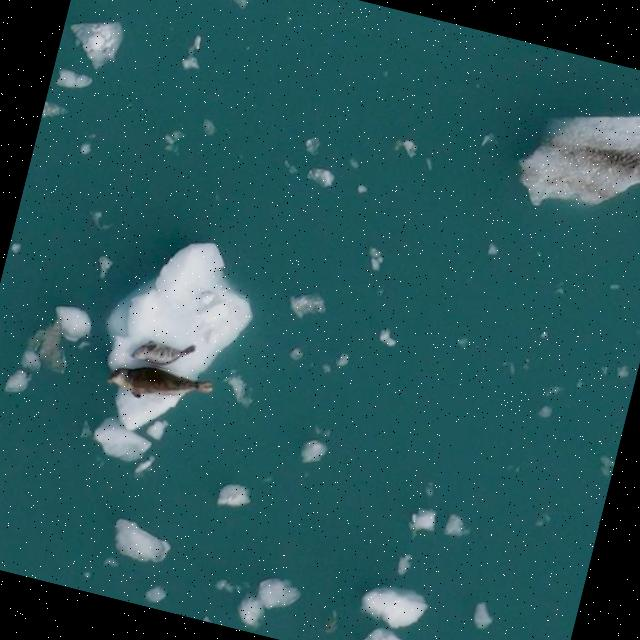seal: (101, 358, 215, 410), (129, 337, 195, 368)
